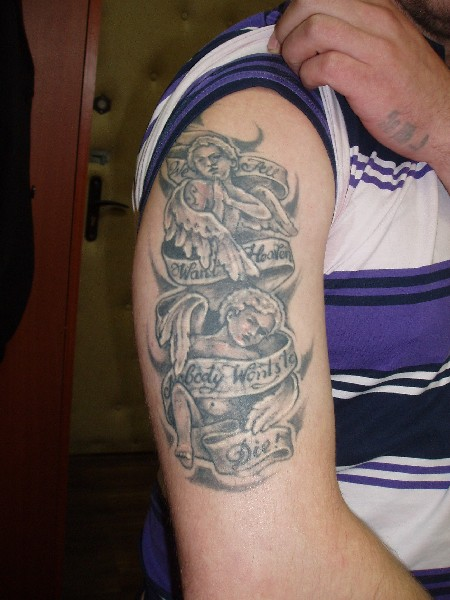tatu1_angel: (162, 289, 303, 462), (167, 137, 282, 278)
